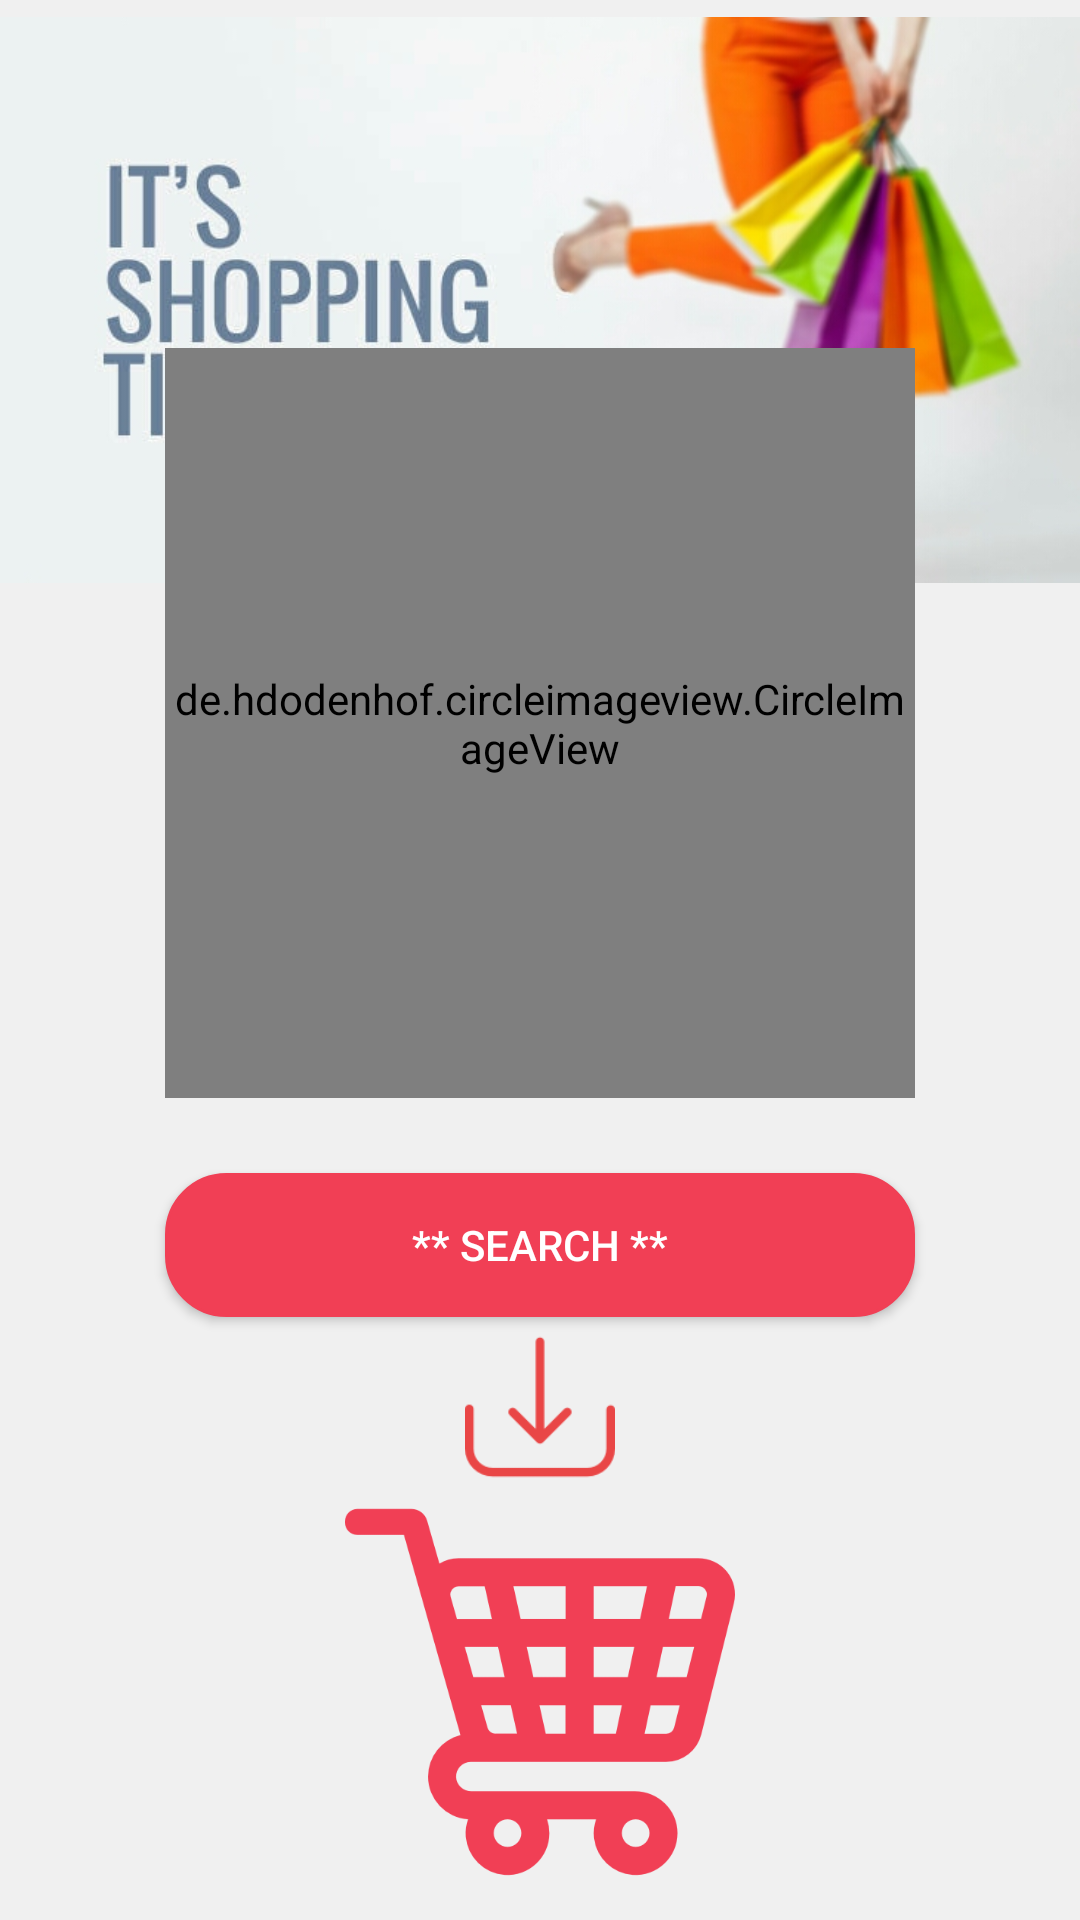

Locate icon controls on the screen. Image size 1080px x 1920px, boxes as (x1, y1, x2, y2).
arr: (465, 1337, 615, 1477)
